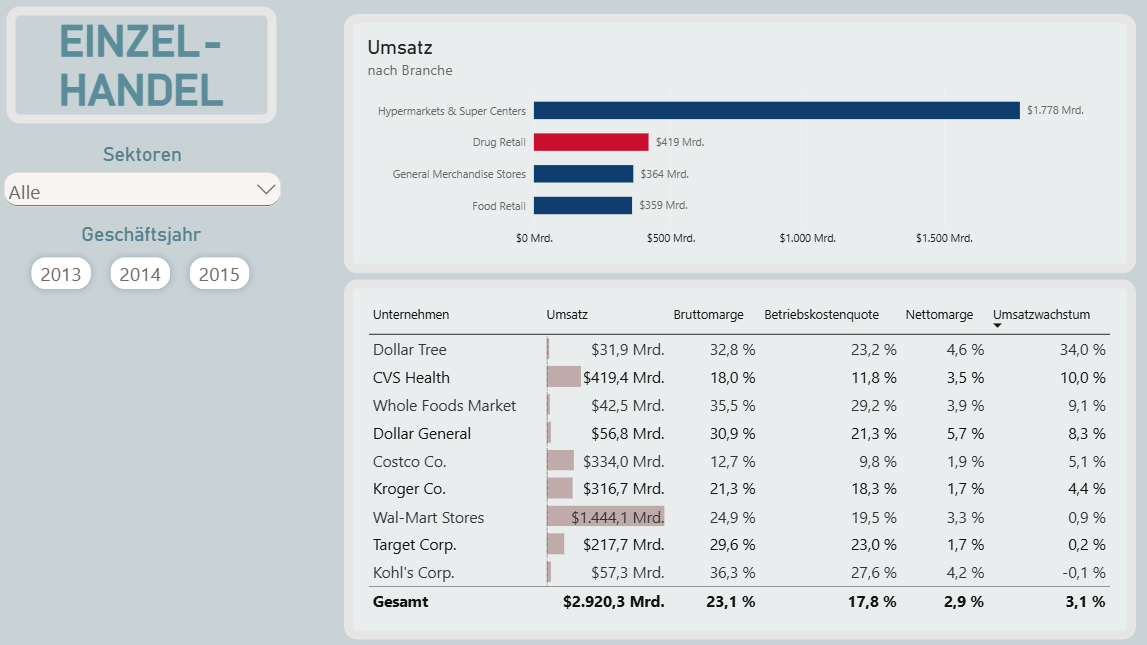

Layout of this report page (visuals, bound fields, positions):
{"tool":"powerbi","page":{"name":"Einzelhandel","canvas":[1280,720],"ordinal":1},"visuals":[{"type":"advancedSlicerVisual","title":"Geschäftsjahr","fields":{"Values":["fundamentals_enriched.fiscal_year"]},"box":[25,248.3,266,85],"z":0},{"type":"textbox","box":[8,8,300,130],"z":1000},{"type":"barChart","fields":{"Category":["dim_company.gics_sub_industry"],"Y":["fundamentals_enriched.Umsatz"]},"box":[384,16,880,288],"z":2000},{"type":"tableEx","fields":{"Values":["dim_company.company_name","fundamentals_enriched.Umsatz","fundamentals_enriched.Bruttomarge","fundamentals_enriched.Betriebskostenquote","fundamentals_enriched.Nettomarge","fundamentals_enriched.Umsatzwachstum"]},"box":[384,312,880,400],"z":3000},{"type":"slicer","title":"Sektoren","fields":{"Values":["dim_company.gics_sub_industry"]},"box":[0,160,318.3,76.7],"z":4001}]}

Visuals, with their boxes in screenshot pixels (x1, y1, x2, y2), scaled from the page's 1280x720 canvas onto the 1147x645 screenshot:
"Geschäftsjahr" advancedSlicerVisual: box=[22, 222, 261, 299]
textbox: box=[7, 7, 276, 124]
barChart - dim_company.gics_sub_industry x fundamentals_enriched.Umsatz: box=[344, 14, 1133, 272]
tableEx - dim_company.company_name x fundamentals_enriched.Umsatz: box=[344, 280, 1133, 638]
"Sektoren" slicer: box=[0, 143, 285, 212]
